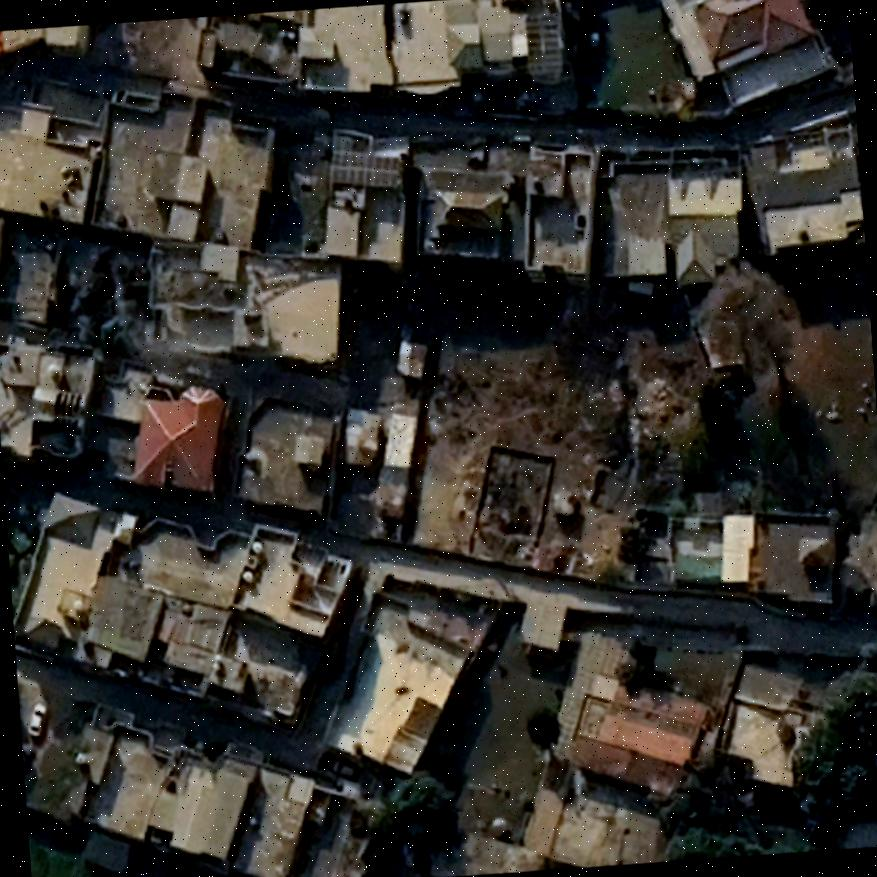Solarpanel: (521, 10, 565, 82), (328, 152, 407, 185)
